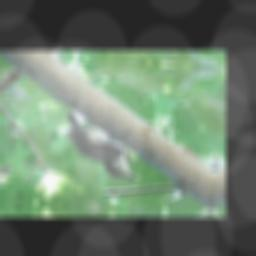Cuckoo: (57, 109, 148, 181)
